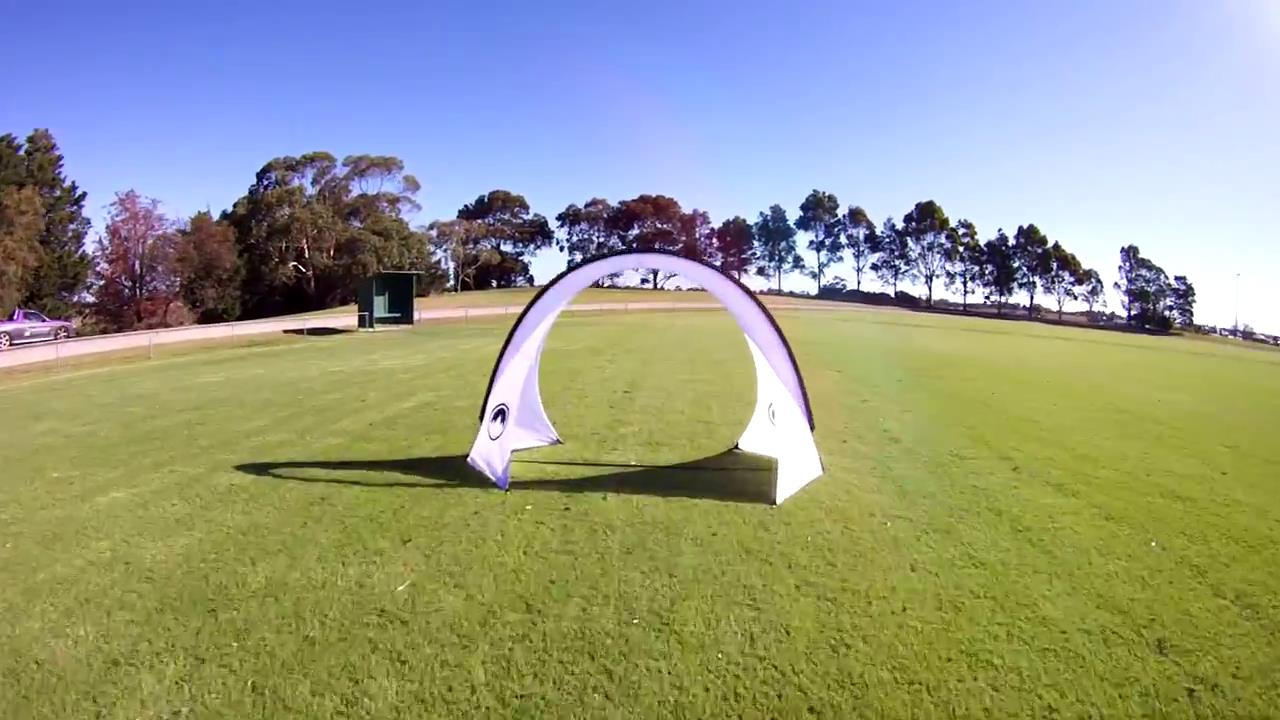gate: (460, 247, 827, 508)
